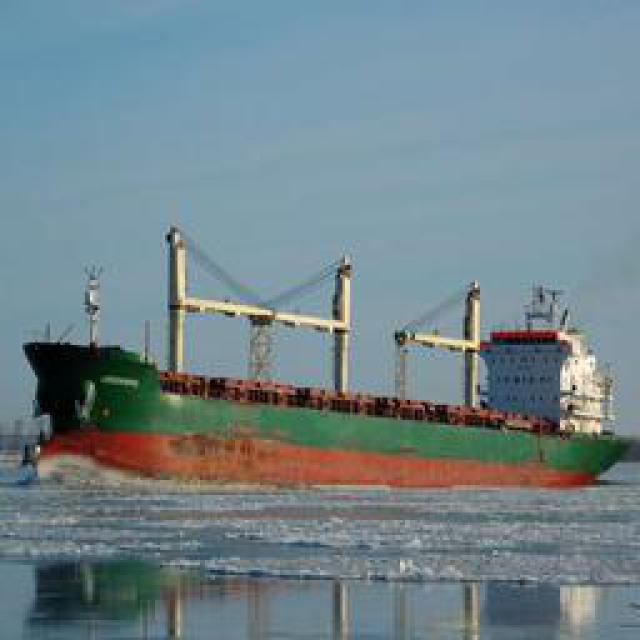Ship: (25, 250, 628, 490)
